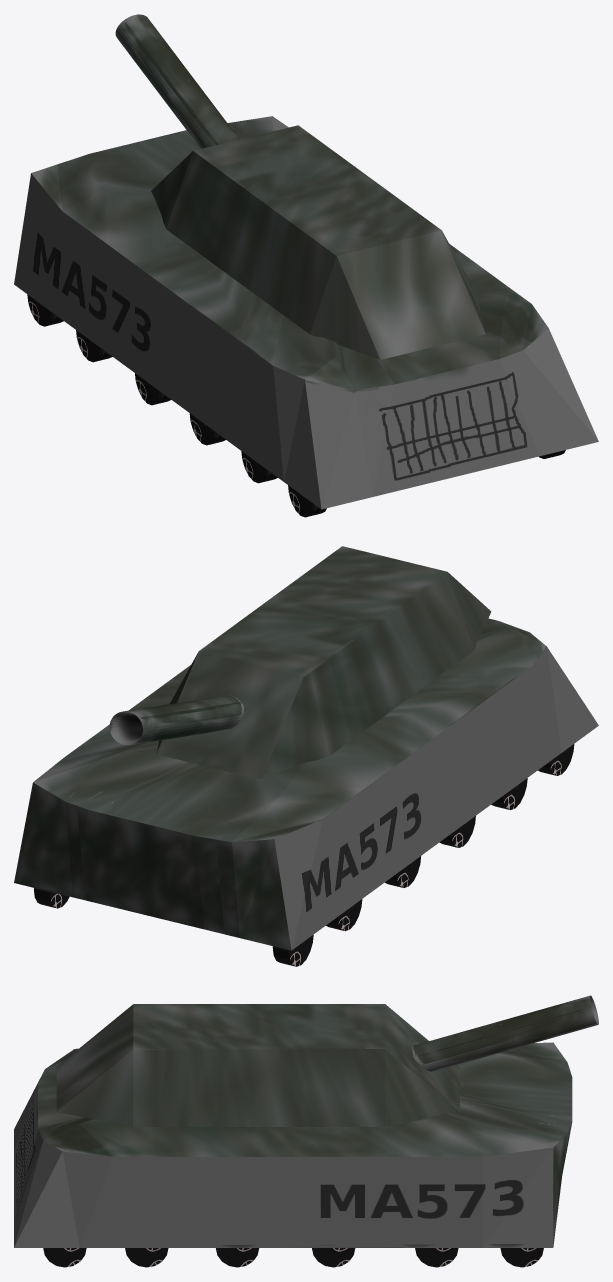
The model's file is tank.dae.
The picture shows the model from 3 angles, top to bottom: view 1: azimuth 30°, elevation 25°; view 2: azimuth 150°, elevation 25°; view 3: azimuth 270°, elevation 25°; orthographic projection. The views are drawn at different scales.
Parts seen in each view (by area): view 1: Tank, Cockpit, Turret; view 2: Tank, Cockpit, Turret, Cylinder_010; view 3: Tank, Cockpit, Turret, Cylinder, Cylinder_003, Cylinder_008, Cylinder_011, Cylinder_004, Cylinder_007.
Boxes of the visible parts, box(x1,y1,x2,y2) form: Tank: box(14, 116, 598, 509); Cockpit: box(151, 125, 485, 359); Turret: box(115, 14, 239, 148); Tank: box(14, 618, 598, 950); Cockpit: box(156, 546, 491, 778); Turret: box(109, 695, 243, 745); Cylinder_010: box(272, 935, 313, 966); Tank: box(14, 1042, 572, 1247); Cockpit: box(56, 1004, 459, 1126); Turret: box(412, 995, 598, 1071); Cylinder: box(43, 1248, 86, 1267); Cylinder_003: box(125, 1248, 168, 1267); Cylinder_008: box(415, 1248, 458, 1267); Cylinder_011: box(500, 1248, 543, 1267); Cylinder_004: box(216, 1248, 259, 1267); Cylinder_007: box(312, 1248, 355, 1267).
Bounding box in the file's own units: 5.15 × 10.71 × 4.41.
3 materials, 3 textured.
